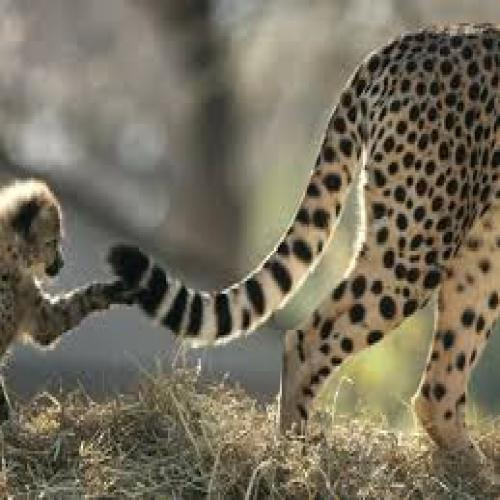cheetah-endangered: (121, 37, 500, 449), (0, 184, 132, 398)
